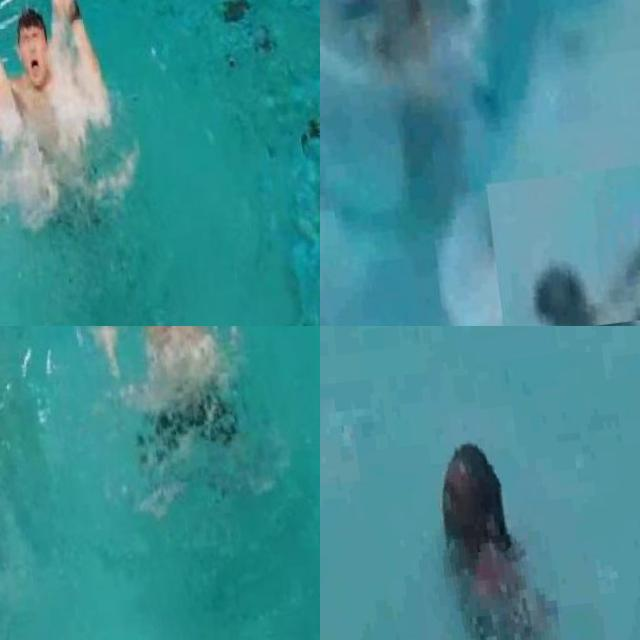drowning: (402, 422, 598, 640), (0, 0, 129, 218), (485, 161, 640, 326), (98, 326, 243, 475)
swimming: (328, 0, 474, 131)
